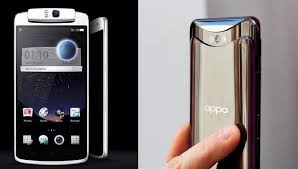oppo: (12, 8, 90, 165), (186, 12, 264, 169)
